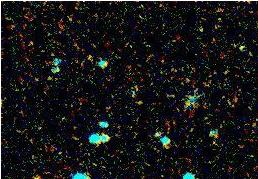star: (21, 160, 51, 179)
